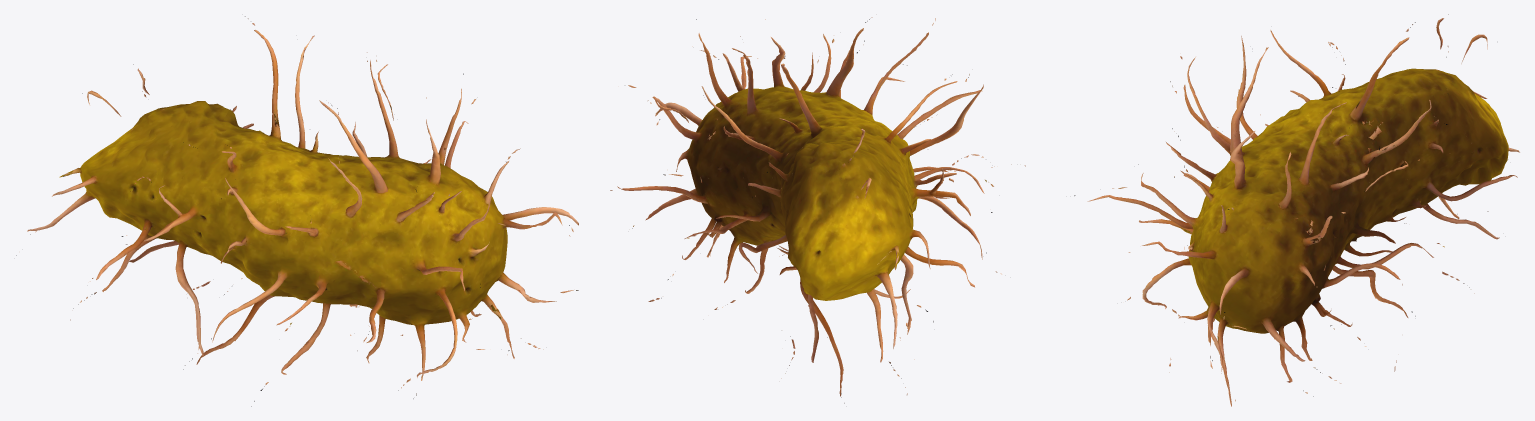
File: bacillus.glb
3 views of the same model, side by side, from view 1: azimuth 30°, elevation 25°; view 2: azimuth 150°, elevation 25°; view 3: azimuth 270°, elevation 25° (orthographic). The views are drawn at different scales.
Parts seen in each view (by area): view 1: attack-membrane; view 2: attack-membrane; view 3: attack-membrane.
Part boxes in pixels (x1,y1,x2,y2): attack-membrane: (16, 16, 578, 406); attack-membrane: (610, 17, 1025, 403); attack-membrane: (1074, 14, 1519, 406).
Bounding box in the file's own units: 1.99 × 1.52 × 1.91.
Materials: 1 (1 with a texture image).
